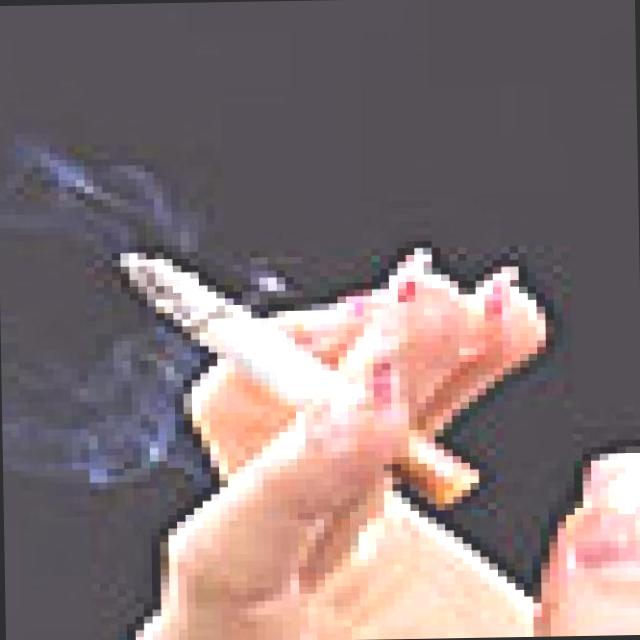smoke: (120, 232, 514, 509)
